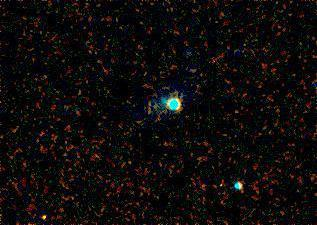star: (27, 202, 57, 225)
